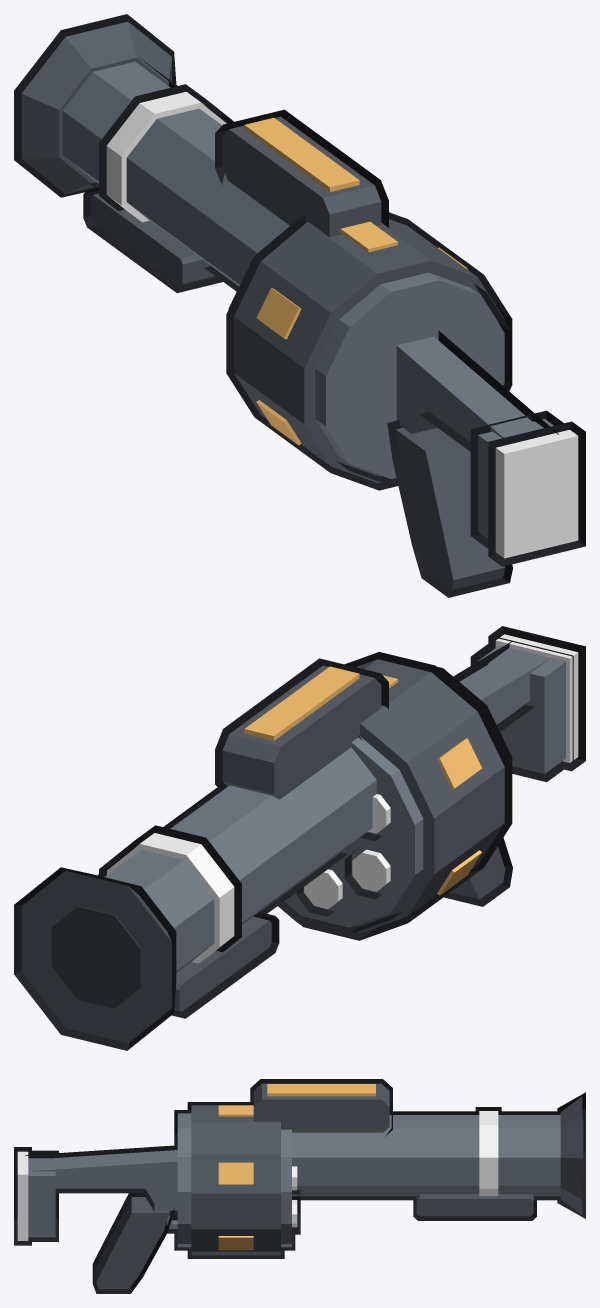
File: STICKY.gltf
3 renders of one model, top to bottom at view 1: azimuth 30°, elevation 25°; view 2: azimuth 150°, elevation 25°; view 3: azimuth 270°, elevation 25°, orthographic. The views are drawn at different scales.
Visible parts, largest first — view 1: STICKY; view 2: STICKY, anim_drum; view 3: STICKY, anim_drum.
Part boxes in pixels (<box>): STICKY: <box>14,14,585,597</box>; STICKY: <box>14,626,585,1050</box>; anim_drum: <box>278,736,423,934</box>; STICKY: <box>14,1079,585,1293</box>; anim_drum: <box>281,1129,300,1250</box>.
Size of the model in its own units: 0.1134 by 0.1592 by 0.4212.
